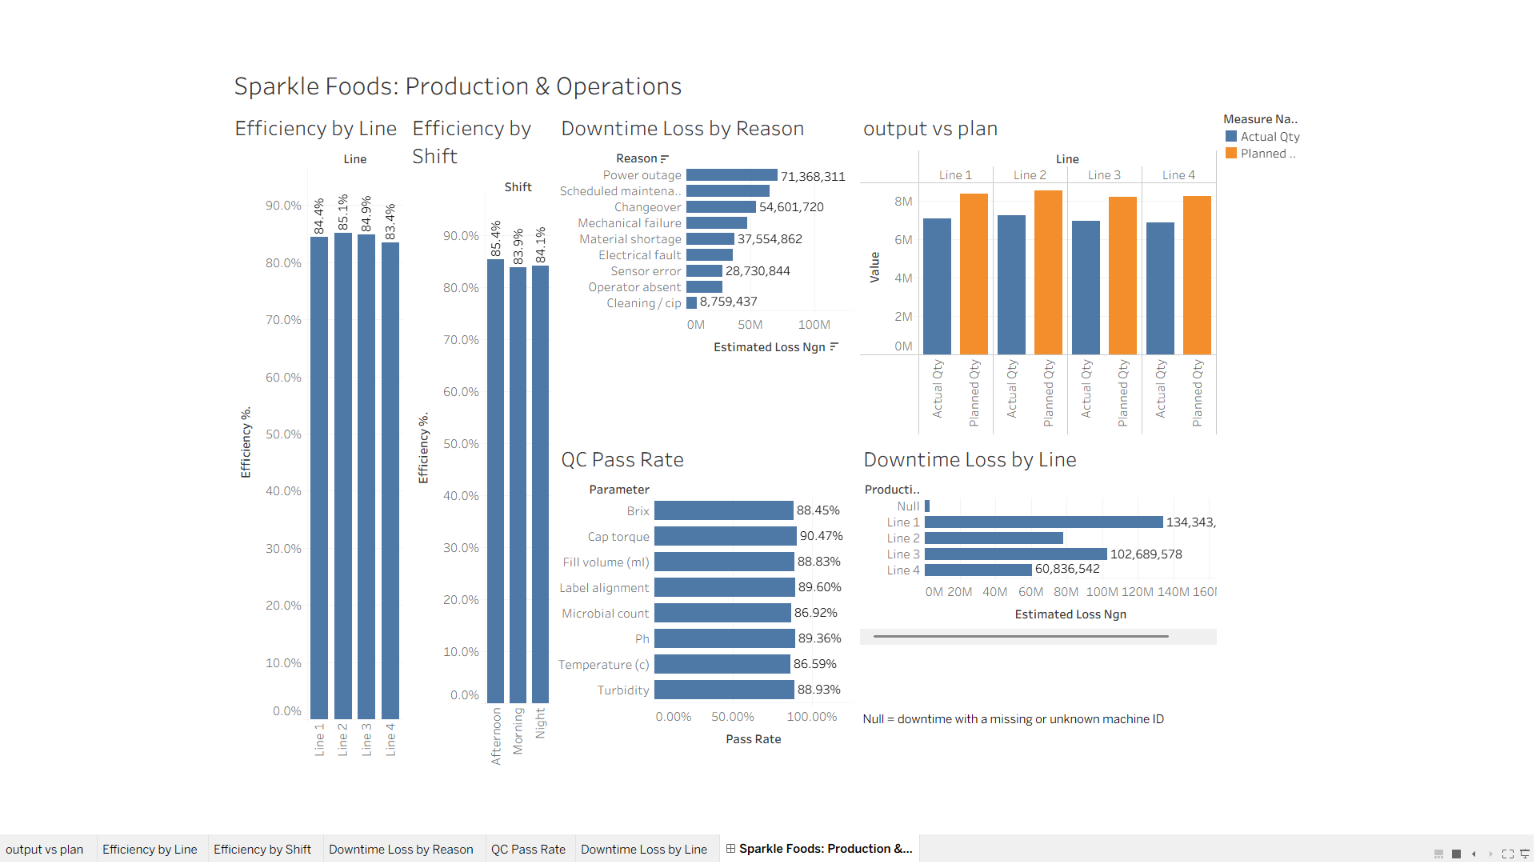

What the dashboard file says about the page in this screenshot:
{"tool":"tableau","page":{"name":"Sparkle Foods: Production & Operations","canvas":[1366,900],"ordinal":0},"visuals":[{"type":"title","box":[8,8,1350,55]},{"type":"worksheet","title":"Efficiency by Line","mark":"Automatic","rows":["Calculation_1215849187663875"],"cols":["line"],"box":[8,63,222.3,829]},{"type":"worksheet","title":"Efficiency by Shift","mark":"Automatic","rows":["Calculation_1215849187663875"],"cols":["shift"],"box":[230.3,63,185.6,829]},{"type":"worksheet","title":"Downtime Loss by Reason","mark":"Automatic","rows":["reason"],"cols":["estimated_loss_ngn"],"box":[415.9,63,378.3,414.5]},{"type":"worksheet","title":"output vs plan ","mark":"Automatic","cols":["line"],"box":[794.2,63,453.8,414.5]},{"type":"legend","title":"output vs plan ","param":"[federated.0on3z900mx91vn1e4h9w706cq70o].[:Measure Names]","box":[1248,63,110,72]},{"type":"worksheet","title":"QC Pass Rate","mark":"Automatic","rows":["parameter"],"cols":["Calculation_0385719268679680"],"box":[415.9,477.5,378.3,414.5]},{"type":"worksheet","title":"Downtime Loss by Line","mark":"Automatic","rows":["production_line"],"cols":["estimated_loss_ngn"],"box":[794.2,477.5,453.8,285.3]},{"type":"text","box":[794.2,762.8,453.8,129.2]}]}

Visuals, with their boxes on the page's 1366x900 design canvas (x1, y1, x2, y2). These are canvas units, not pixel positions in the 1534x862 screenshot, which may show the page scaled, cropped or inside an application window:
title: bbox=[8, 8, 1358, 63]
"Efficiency by Line" worksheet: bbox=[8, 63, 230, 892]
"Efficiency by Shift" worksheet: bbox=[230, 63, 416, 892]
"Downtime Loss by Reason" worksheet: bbox=[416, 63, 794, 478]
"output vs plan " worksheet: bbox=[794, 63, 1248, 478]
"output vs plan " legend: bbox=[1248, 63, 1358, 135]
"QC Pass Rate" worksheet: bbox=[416, 478, 794, 892]
"Downtime Loss by Line" worksheet: bbox=[794, 478, 1248, 763]
text: bbox=[794, 763, 1248, 892]
